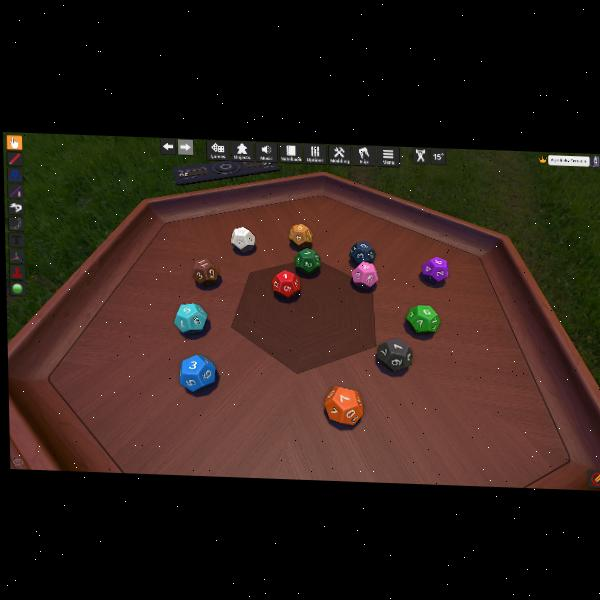d12: (323, 385, 362, 426), (180, 353, 219, 393), (376, 338, 411, 373), (175, 302, 209, 334), (406, 304, 437, 334), (421, 255, 450, 285), (192, 257, 220, 286), (272, 270, 300, 299), (351, 260, 379, 288), (294, 247, 319, 275), (349, 240, 376, 265), (231, 226, 255, 252), (289, 224, 311, 248)
